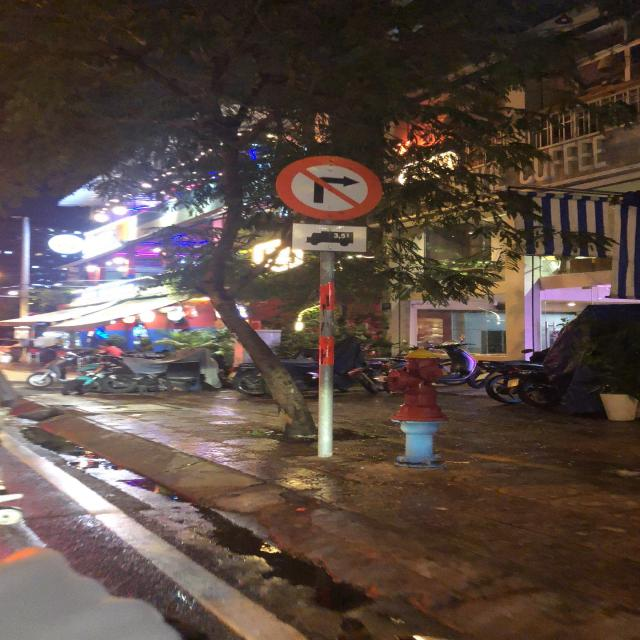Bien bao cam re phai: (270, 152, 392, 221)
